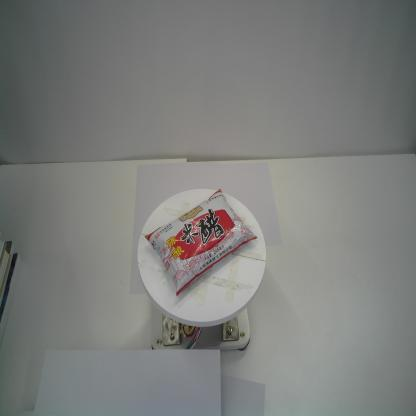Seasoner: (141, 186, 257, 300)
